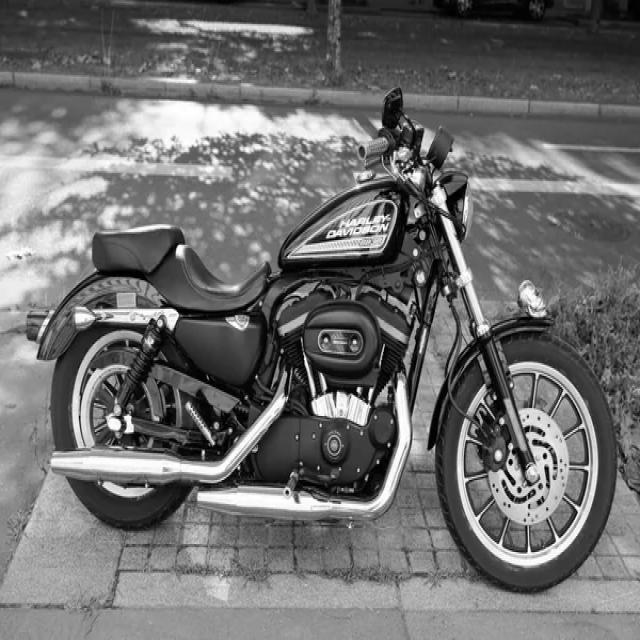Motorcycle: (40, 102, 611, 588)
